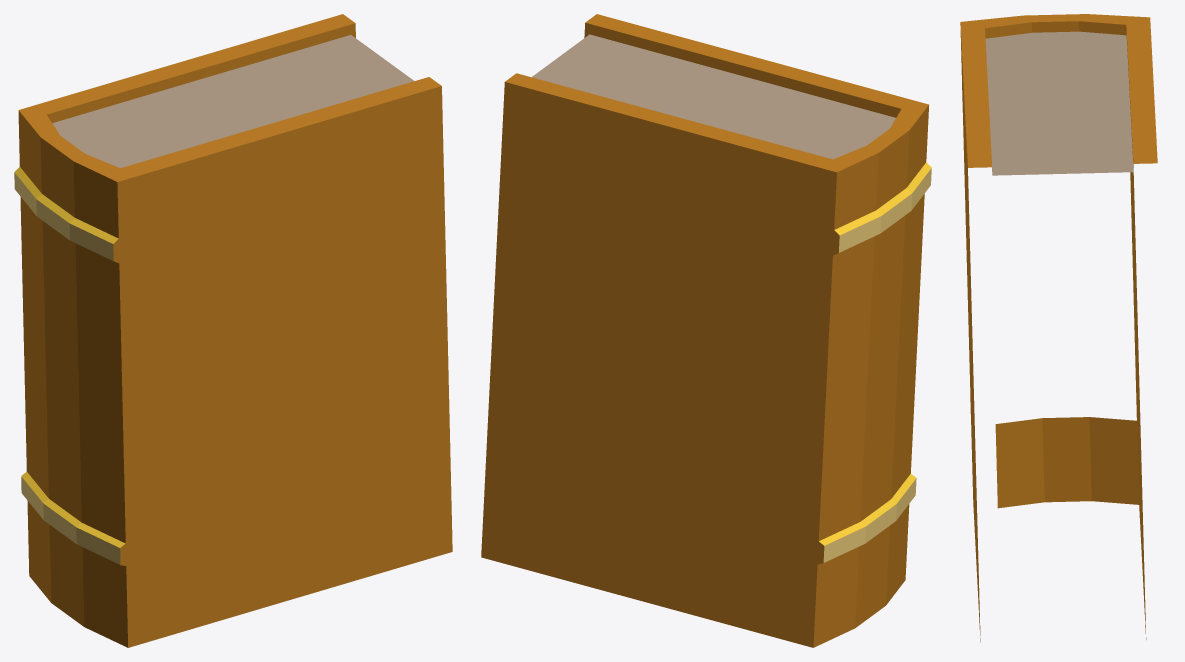
The model's file is Puzzle04_Book1.glb.
The picture shows the model from 3 angles, left to right: view 1: azimuth 30°, elevation 25°; view 2: azimuth 150°, elevation 25°; view 3: azimuth 270°, elevation 25°; orthographic projection.
Visible parts, largest first — view 1: Puzzle04_Book; view 2: Puzzle04_Book; view 3: Puzzle04_Book.
Part boxes in pixels (x1,y1,x2,y2): Puzzle04_Book: [14, 14, 452, 647]; Puzzle04_Book: [481, 14, 931, 647]; Puzzle04_Book: [960, 14, 1157, 642].
Size of the model in its own units: 0.5676 by 0.7353 by 0.2872.
1 material, 1 textured.
